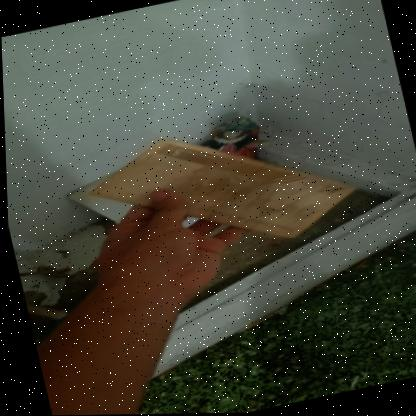five-back-vef: (77, 102, 364, 278)
